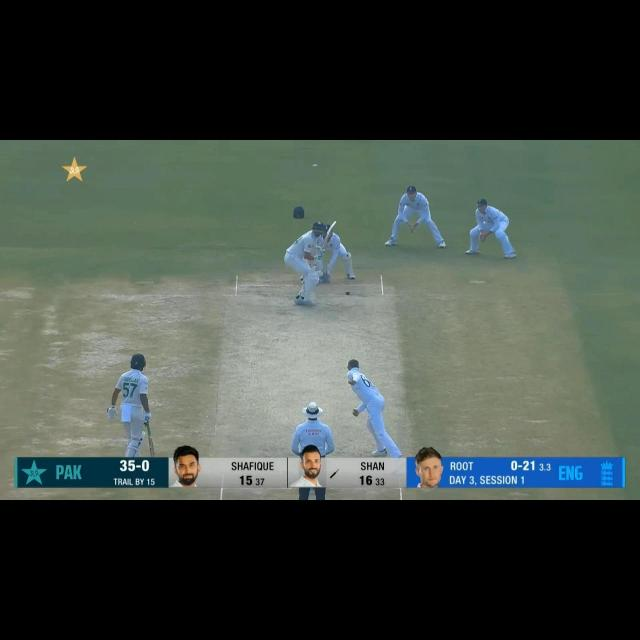bat: (322, 220, 336, 250), (146, 437, 156, 458)
toe: (329, 218, 336, 231)
